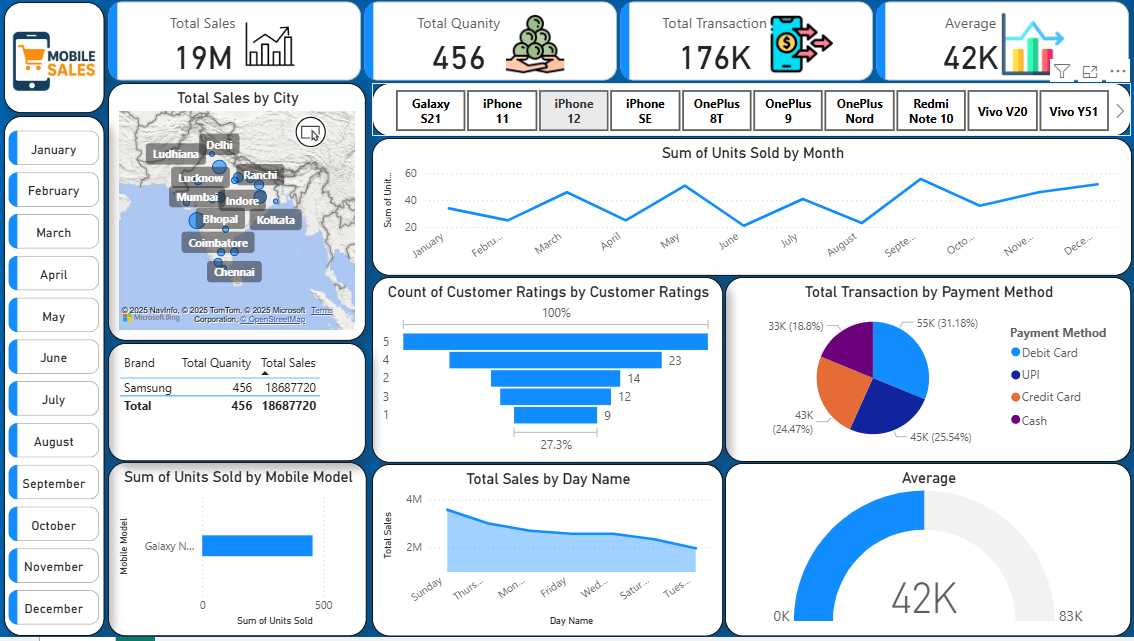

Layout of this report page (visuals, bound fields, positions):
{"tool":"powerbi","page":{"name":"Page 1","canvas":[1280,720],"ordinal":0},"visuals":[{"type":"shape","box":[6.8,5.6,112.5,124.9],"z":0},{"type":"cardVisual","fields":{"Data":["Sales_Data.Total Sales","Sales_Data.Total Quanity","Sales_Data.Total Transaction","Sales_Data.Average"]},"box":[119,0,1161,99],"z":1000},{"type":"map","fields":{"Size":["Sales_Data.Total Sales"],"Category":["Sales_Data.City"]},"box":[123.8,96.8,290.2,290.2],"z":2000},{"type":"lineChart","fields":{"Y":["Sum(Sales_Data.Units Sold)"],"Category":["Sales_Data.Date .Variation.Date Hierarchy.Month","Sales_Data.Date .Variation.Date Hierarchy.Day"]},"box":[420.8,158.6,855,155.2],"z":3000},{"type":"clusteredBarChart","fields":{"Category":["Sales_Data.Mobile Model"],"Y":["Sum(Sales_Data.Units Sold)"]},"box":[123.8,523.1,291.4,195.8],"z":4000},{"type":"pieChart","fields":{"Category":["Sales_Data.Payment Method"],"Y":["Sales_Data.Total Transaction"]},"box":[817.9,315,456.8,208.1],"z":5000},{"type":"funnel","fields":{"Category":["Sales_Data.Customer Ratings"],"Y":["CountNonNull(Sales_Data.Customer Ratings)"]},"box":[420.8,315,394.9,209.2],"z":6000},{"type":"areaChart","fields":{"Category":["Sales_Data.Day Name"],"Y":["Sales_Data.Total Sales"]},"box":[420.8,525.4,394.9,193.5],"z":7000},{"type":"tableEx","fields":{"Values":["Sales_Data.Brand","Sales_Data.Total Quanity","Sales_Data.Total Sales"]},"box":[123.8,389.2,290.2,132.8],"z":8000},{"type":"gauge","fields":{"Y":["Sales_Data.Average"]},"box":[817.9,524.2,456.8,194.6],"z":9000},{"type":"slicer","title":"S","fields":{"Values":["Sales_Data.Brand"]},"box":[420.8,96.8,855,59.6],"z":10000},{"type":"shape","box":[6.8,133.9,112.5,585],"z":11000},{"type":"advancedSlicerVisual","fields":{"Values":["Sales_Data.Date .Variation.Date Hierarchy.Month"]},"box":[6.8,145.1,112.5,573.8],"z":12000},{"type":"image","box":[0,0,123.8,145.1],"z":13000}]}

Visuals, with their boxes in screenshot pixels (x1, y1, x2, y2), scaled from the page's 1280x720 canvas onto the 1134x641 screenshot:
shape: crop(6, 5, 106, 116)
cardVisual - Sales_Data.Total Sales x Sales_Data.Total Quanity: crop(105, 0, 1133, 88)
map - Sales_Data.Total Sales x Sales_Data.City: crop(110, 86, 367, 345)
lineChart - Sum(Sales_Data.Units Sold) x Sales_Data.Date .Variation.Date Hierarchy.Month: crop(373, 141, 1130, 279)
clusteredBarChart - Sales_Data.Mobile Model x Sum(Sales_Data.Units Sold): crop(110, 466, 368, 640)
pieChart - Sales_Data.Payment Method x Sales_Data.Total Transaction: crop(725, 280, 1129, 466)
funnel - Sales_Data.Customer Ratings x CountNonNull(Sales_Data.Customer Ratings): crop(373, 280, 723, 467)
areaChart - Sales_Data.Day Name x Sales_Data.Total Sales: crop(373, 468, 723, 640)
tableEx - Sales_Data.Brand x Sales_Data.Total Quanity: crop(110, 346, 367, 465)
gauge - Sales_Data.Average: crop(725, 467, 1129, 640)
"S" slicer: crop(373, 86, 1130, 139)
shape: crop(6, 119, 106, 640)
advancedSlicerVisual - Sales_Data.Date .Variation.Date Hierarchy.Month: crop(6, 129, 106, 640)
image: crop(0, 0, 110, 129)
